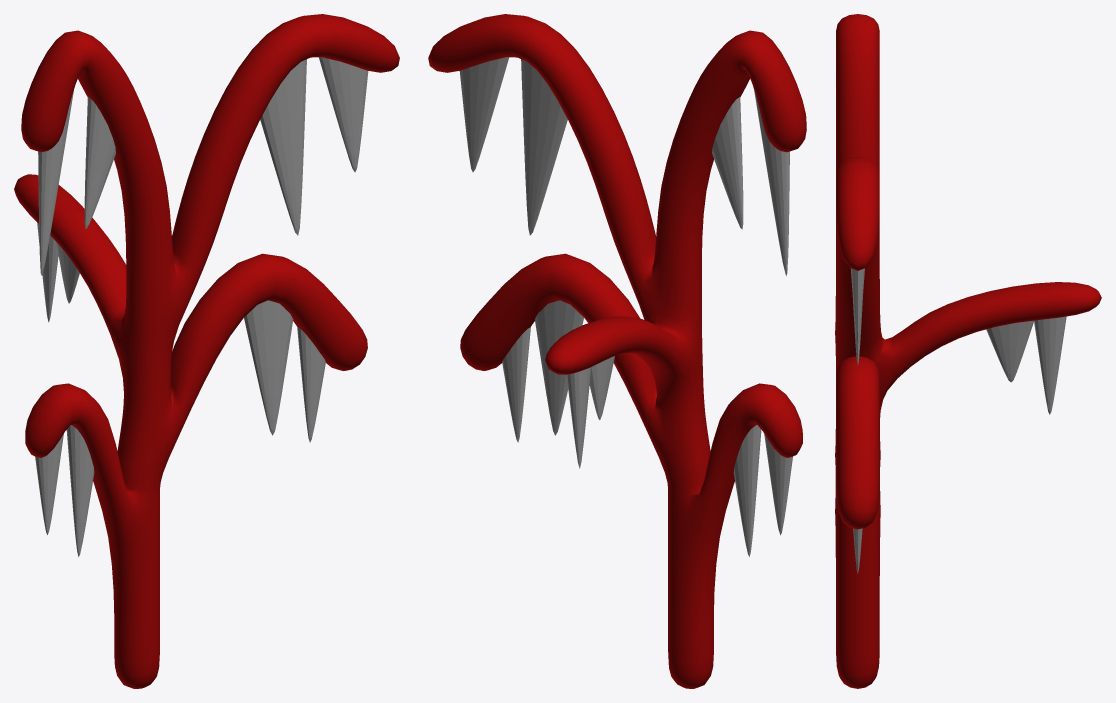
Rendered from mars-tree-13.obj.
The picture shows the model from 3 angles, left to right: view 1: azimuth 30°, elevation 25°; view 2: azimuth 150°, elevation 25°; view 3: azimuth 270°, elevation 25°; orthographic projection. The views are drawn at different scales.
Visible parts, largest first — view 1: Tree.013_Cube.107; view 2: Tree.013_Cube.107; view 3: Tree.013_Cube.107.
Boxes of the visible parts, left/top/right/bottom form: Tree.013_Cube.107: left=14, top=14, right=399, bottom=688; Tree.013_Cube.107: left=428, top=14, right=806, bottom=688; Tree.013_Cube.107: left=835, top=14, right=1101, bottom=688.
Bounding box in the file's own units: 1.79 × 3.05 × 1.15.
